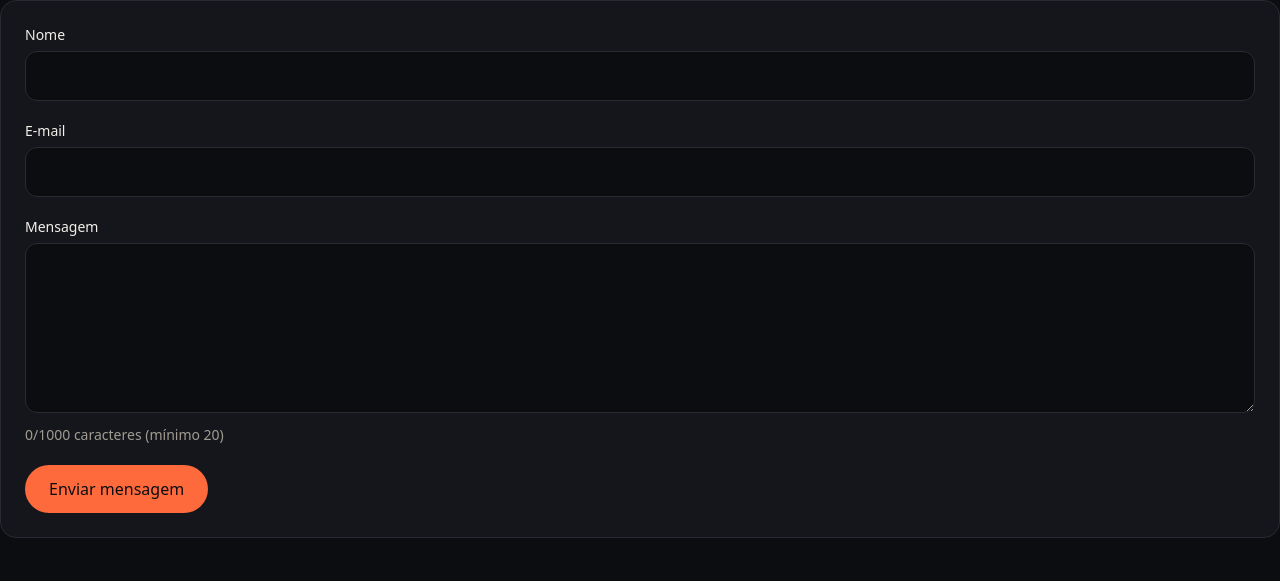
Test: ContactForm › valida e-mail inválido e mensagem curta
In the field labelled "Nome": (640, 76) [25, 51, 1255, 101], type "Arthur"
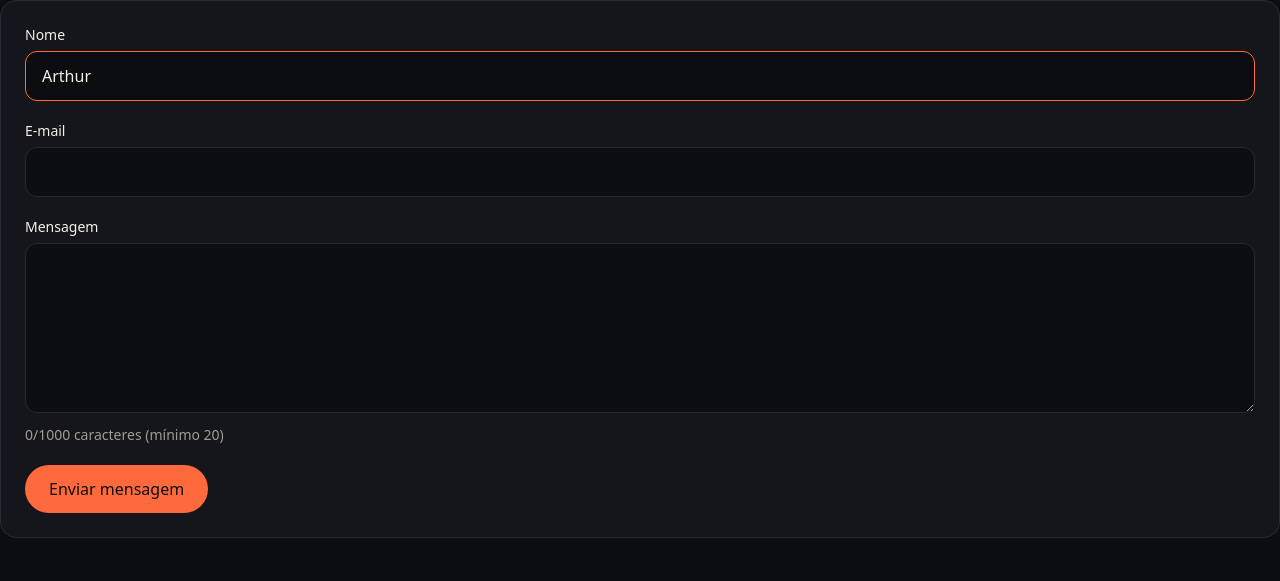
In the field labelled "E-mail": (640, 172) [25, 147, 1255, 197], type "errado"
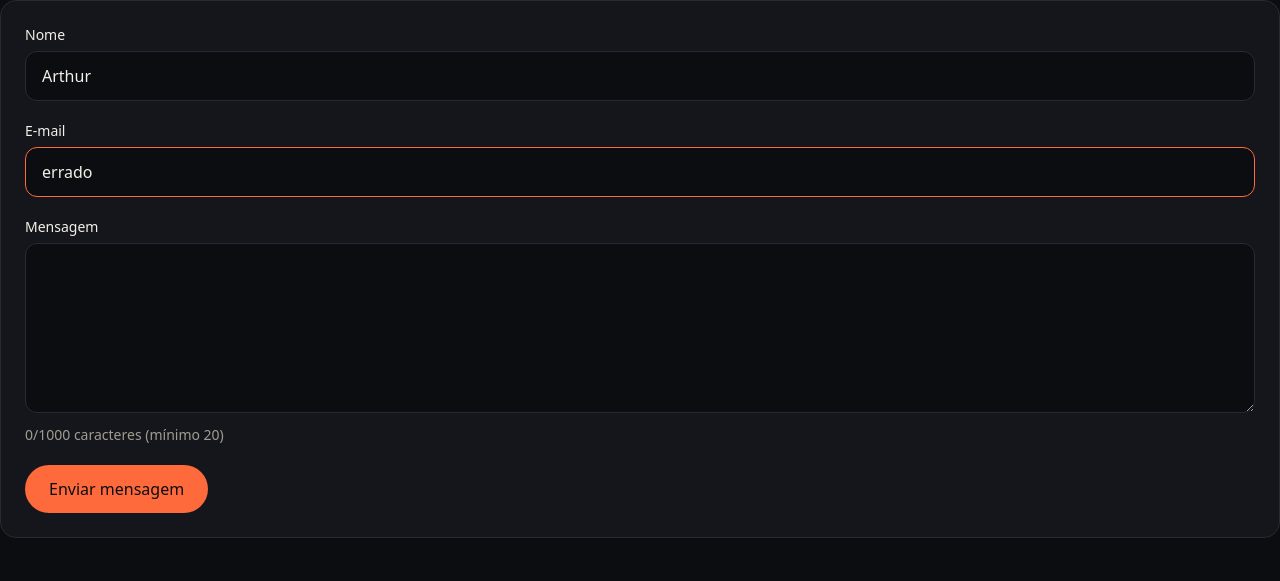
In the text box labelled "Mensagem": (640, 328) [25, 243, 1255, 413], type "curta"
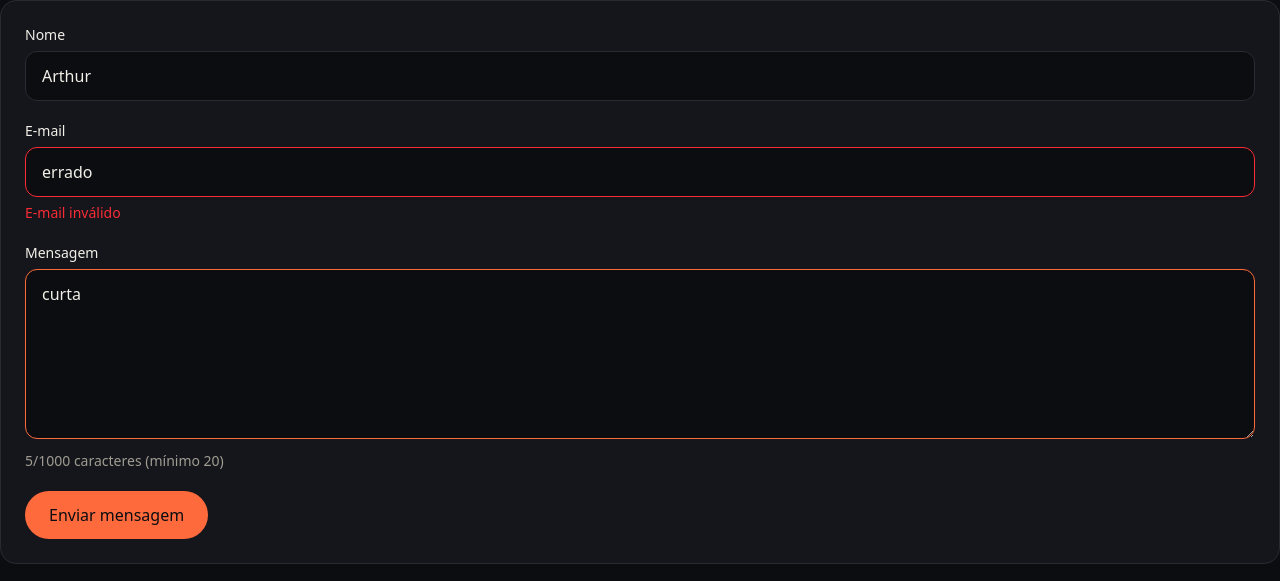
Click the button "Enviar mensagem": (117, 515) [25, 491, 208, 539]
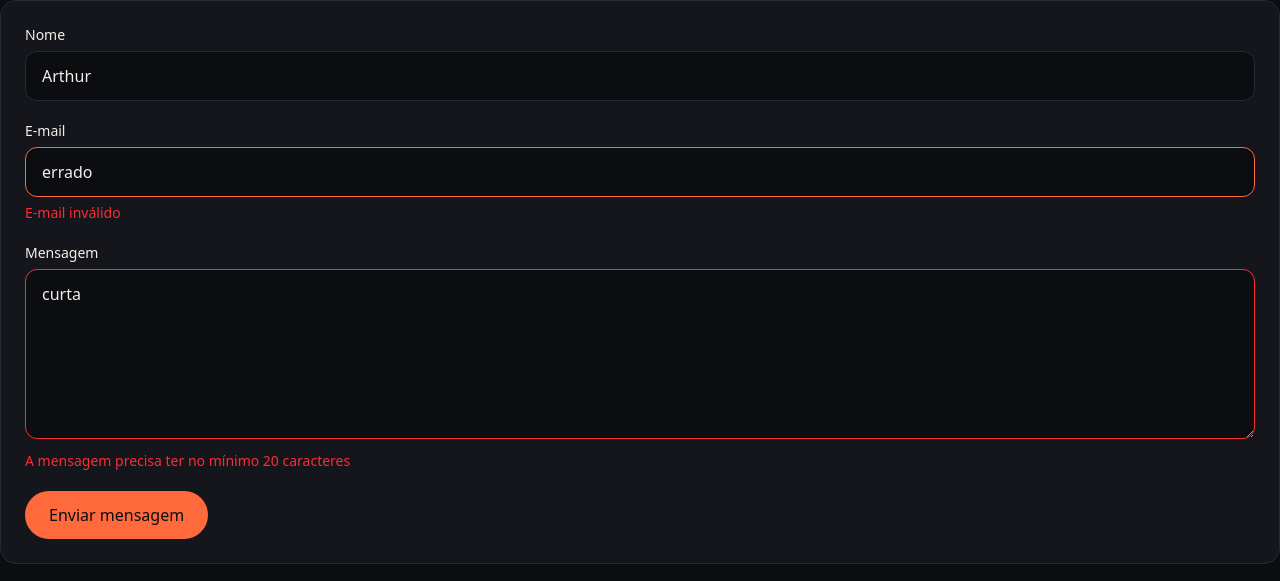
Expected: the text "E-mail inválido" is shown, [25, 203, 121, 222]
Expected: the text "A mensagem precisa ter no mínimo 20 caracteres" is shown, [25, 451, 350, 470]
